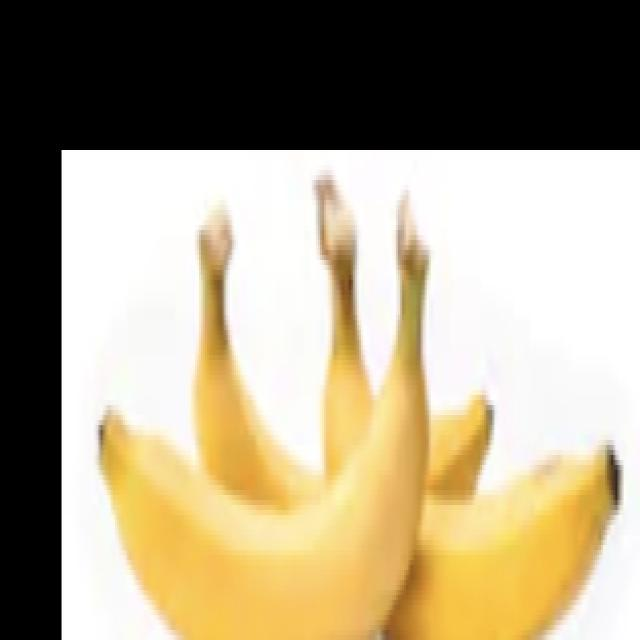Banana: (191, 200, 624, 640), (92, 247, 421, 640), (314, 171, 496, 537)
